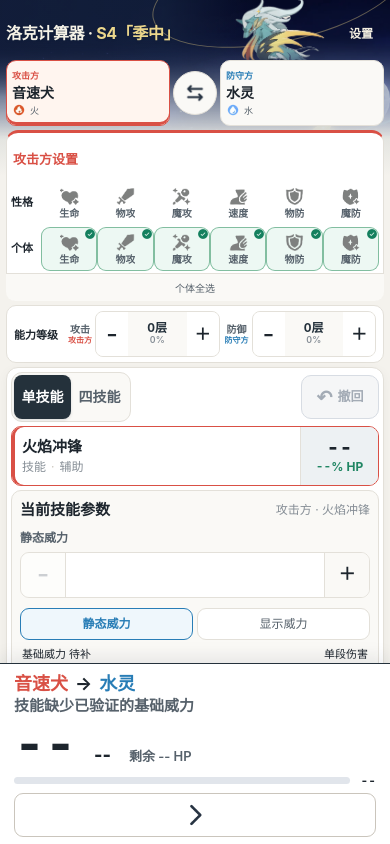
Test: IndexPage › labels the bundled dataset with the current season display name
This screenshot has width=390, height=844.
Expected: the element named "攻击方配置" is shown, x1=6 y1=60 x2=170 y2=126
Click the button with aria-label "打开设置".
click(361, 34)  # box x1=338 y1=12 x2=384 y2=56
(page scrolled)
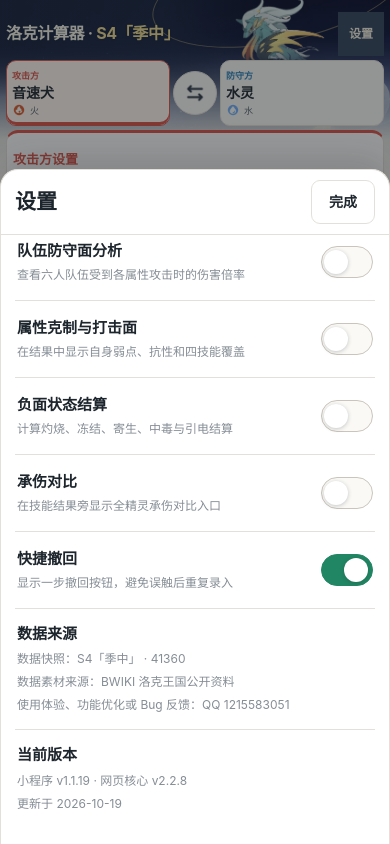
Expected: the text "数据快照：S4「季中」 · 41360" is shown, x1=17 y1=651 x2=186 y2=666
